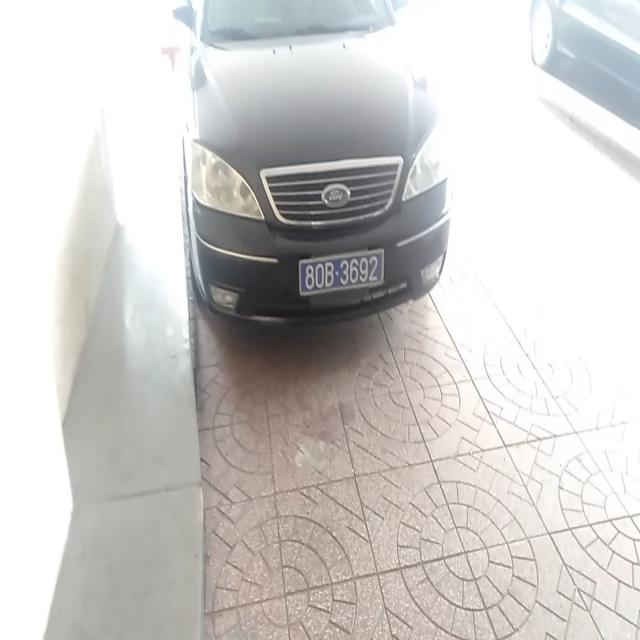bien_xanh: (299, 248, 387, 299)
